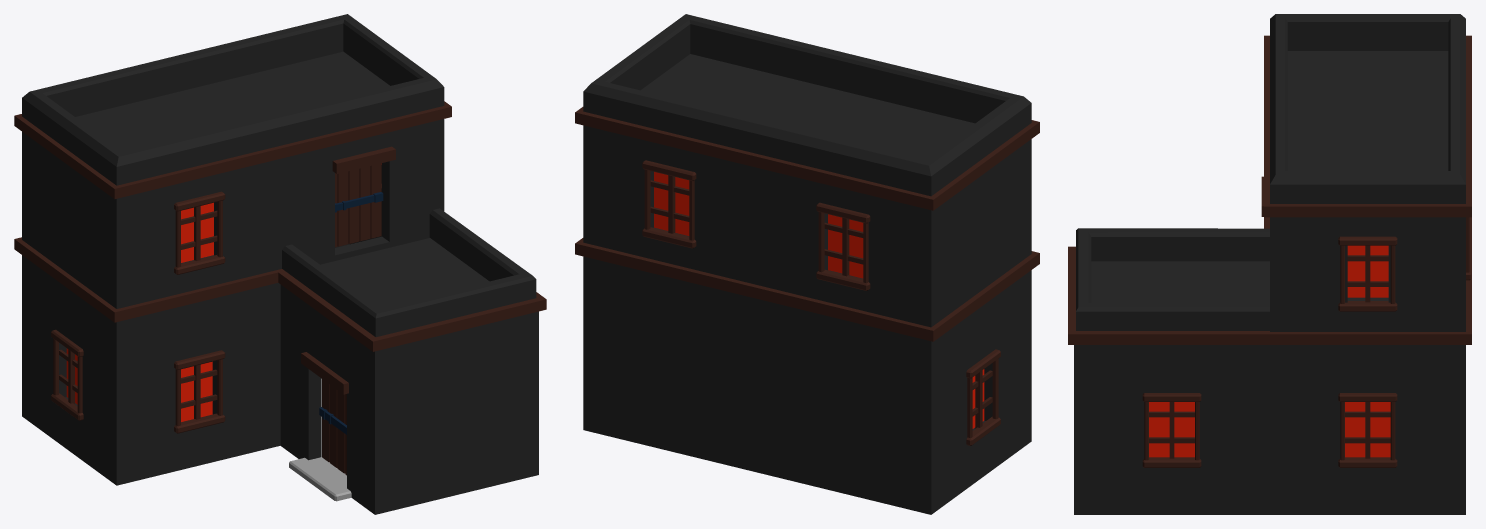
The model's file is civilian_house_33_i.FBX.
3 renders of one model, left to right at view 1: azimuth 30°, elevation 25°; view 2: azimuth 150°, elevation 25°; view 3: azimuth 270°, elevation 25°, orthographic. The views are drawn at different scales.
Parts seen in each view (by area): view 1: civilian_house_33_i; view 2: civilian_house_33_i; view 3: civilian_house_33_i.
Boxes of the visible parts, box(x1,y1,x2,y2) form: civilian_house_33_i: box(14, 14, 546, 514); civilian_house_33_i: box(575, 14, 1039, 514); civilian_house_33_i: box(1068, 14, 1471, 514).
Size of the model in its own units: 1030 by 950 by 1030.
